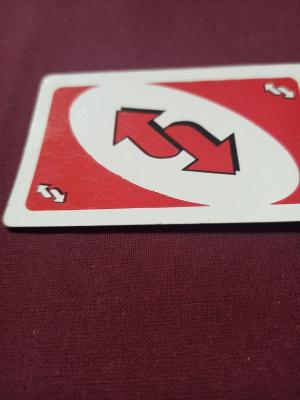reverse: (110, 96, 246, 186), (32, 178, 72, 209), (257, 77, 300, 104)
